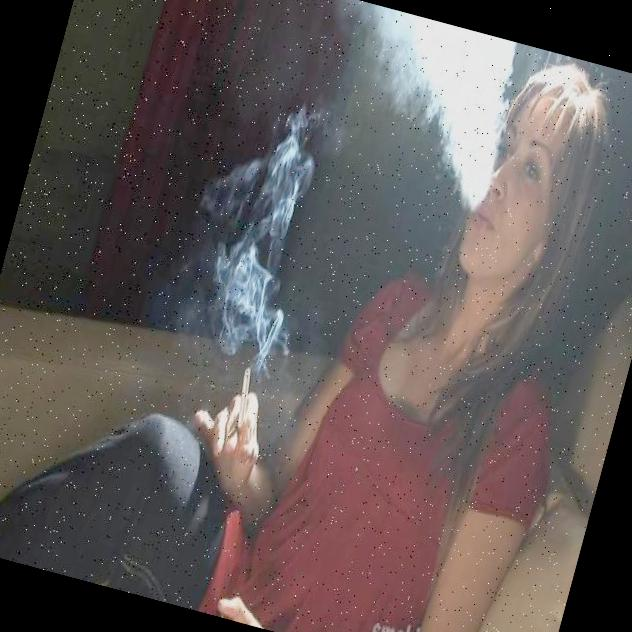smoke: (154, 102, 348, 384), (340, 8, 528, 214)
